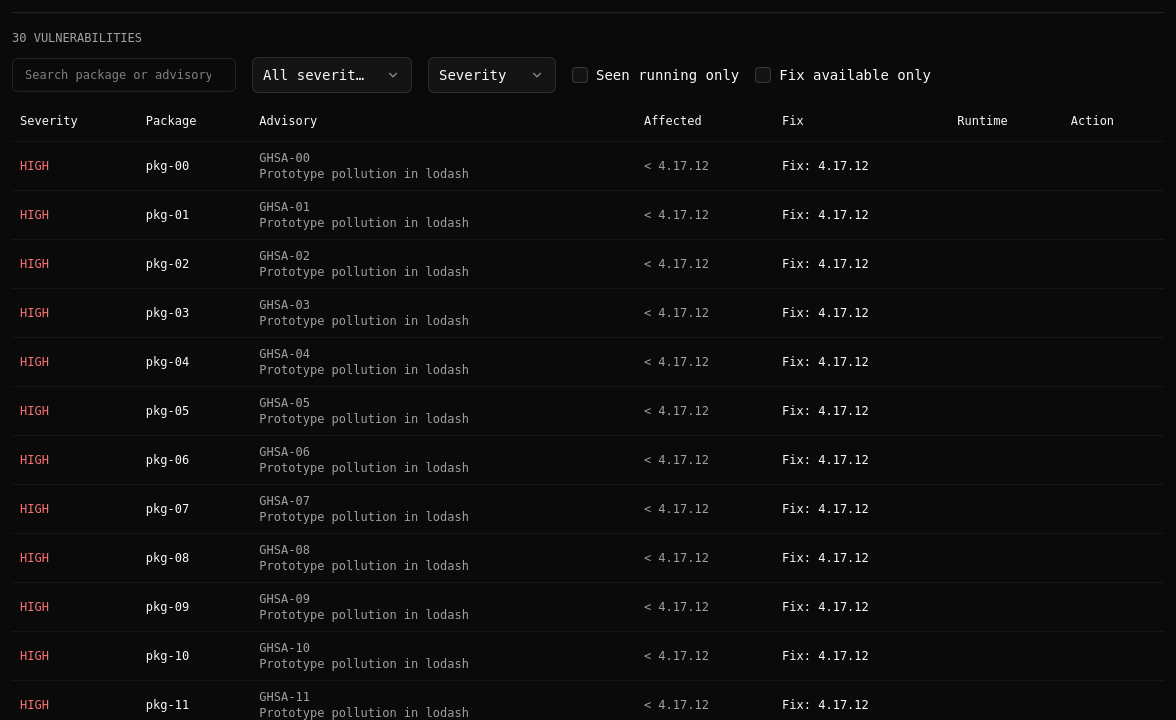
Scenario: CveFindings table › searches, and says so when nothing matches
Type "pkg-17" into the search field labelled "Search package or advisory" at point(124, 75), box [12,58,236,92]
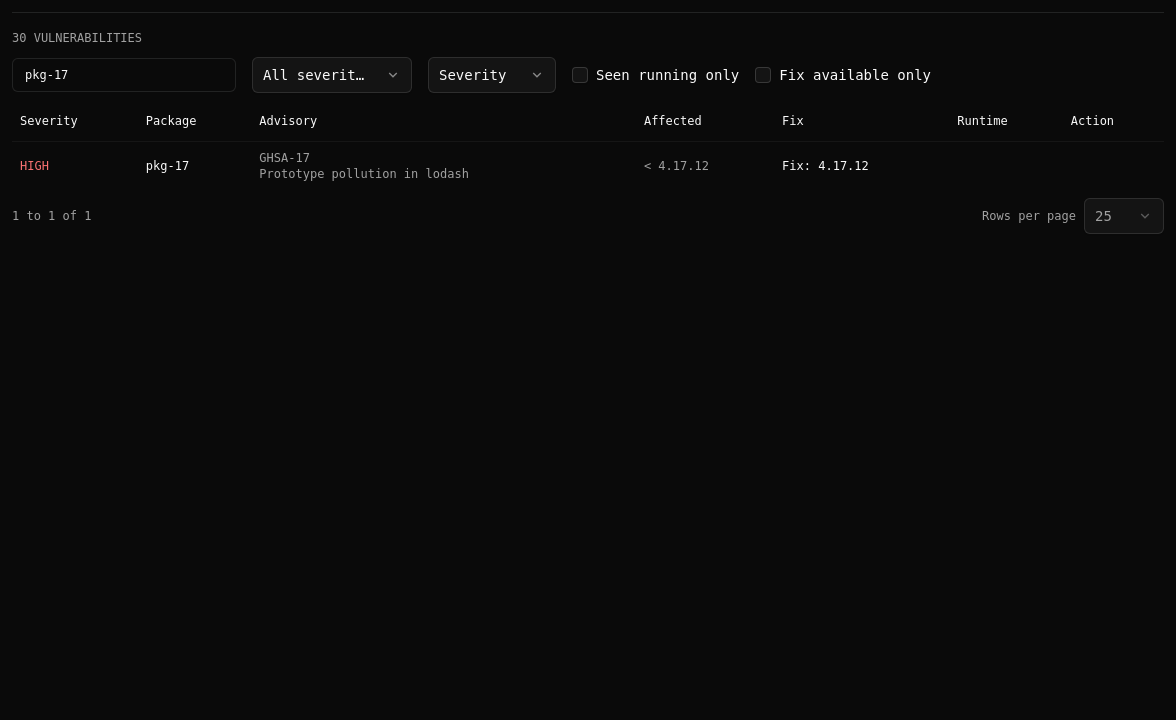
Expected: the text "pkg-17" is shown, [146,158,189,172]
Result: the text "1 to 1 of 1" is shown at [12,208,92,224]
Replace the text in the search field named "Search package or advisory" with "nothing-like-this" at point(124, 75), box [12,58,236,92]
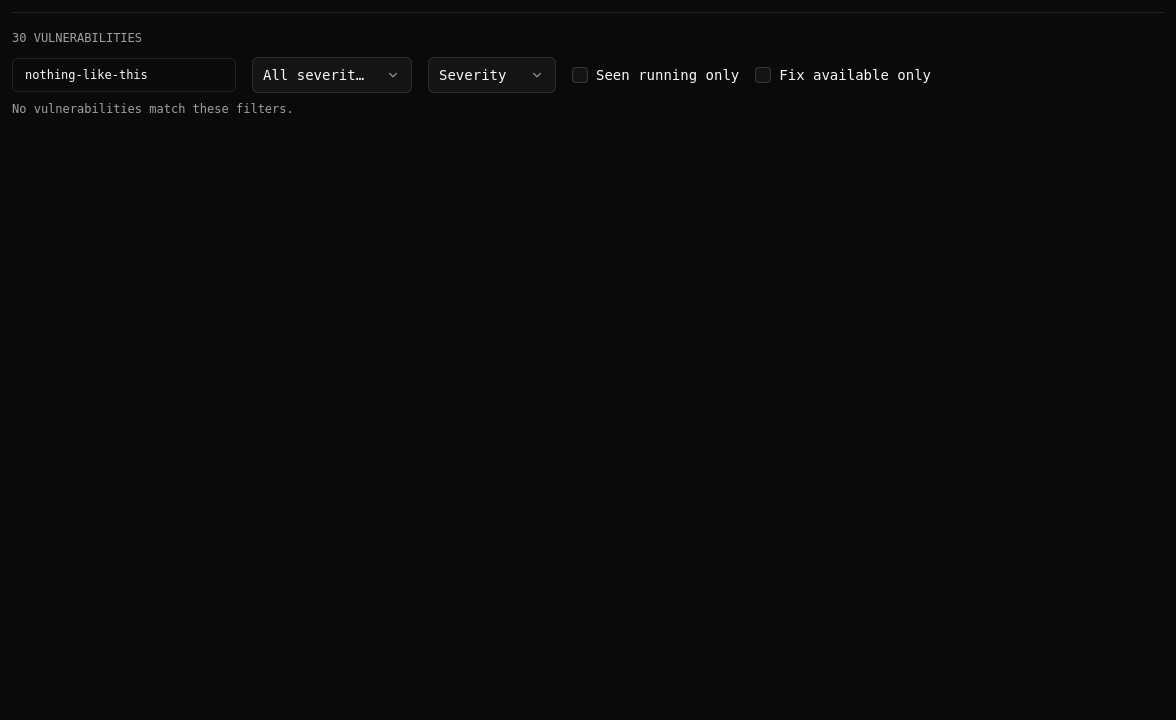
Result: the text "No vulnerabilities match these filters." is shown at [12,102,294,116]
